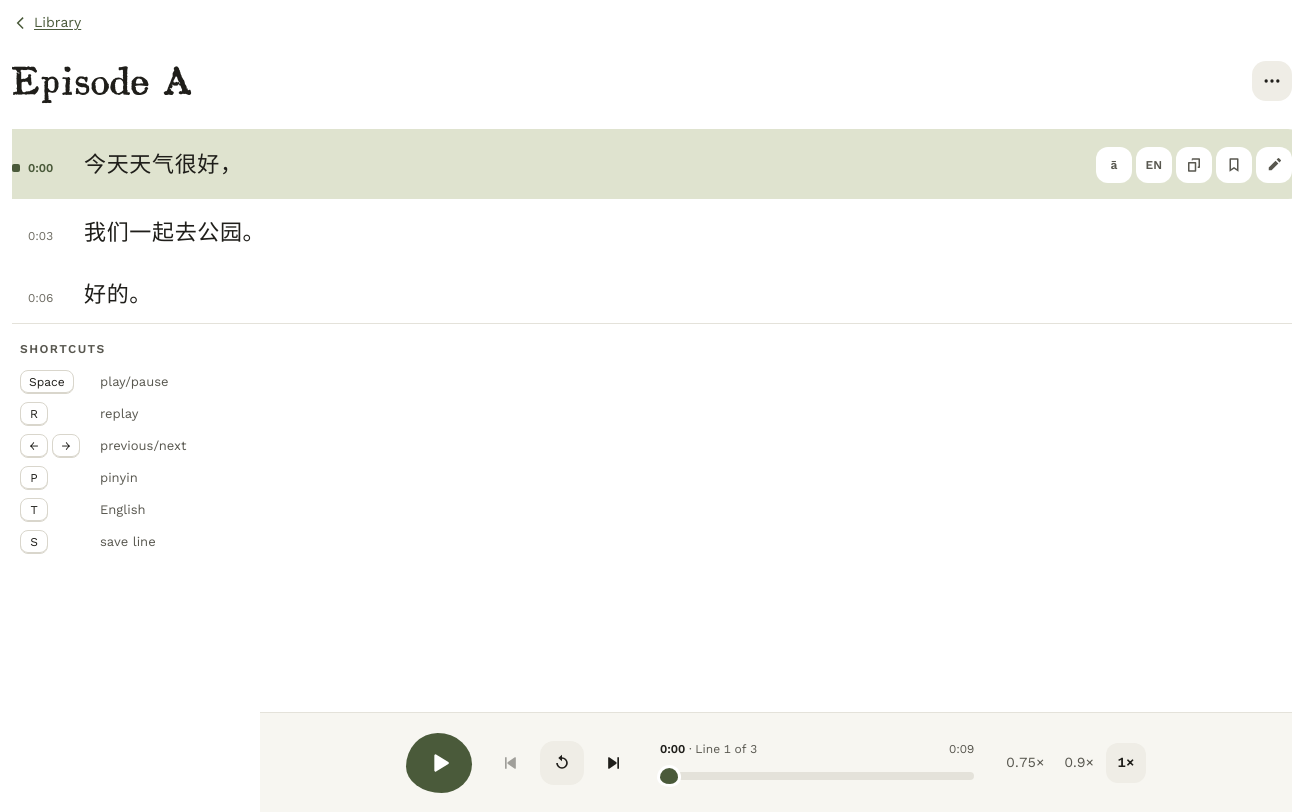
Test case: local English — capability › 'Show saved English' reveals current cached English only and never sends
Click the button named "Transcript actions" at (1272, 81), box [1252,61,1292,101]
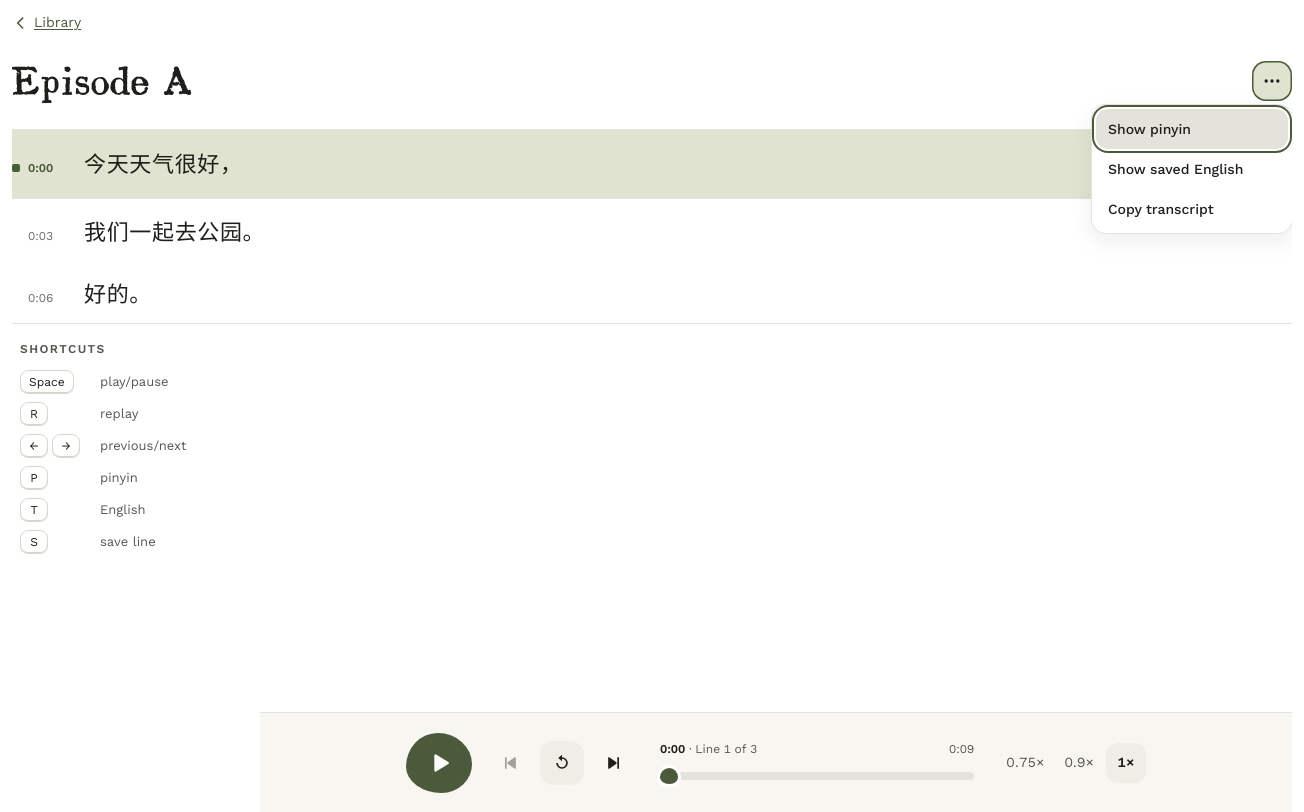
Click the menu item "Show saved English" at (1192, 169), box [1096,149,1288,189]
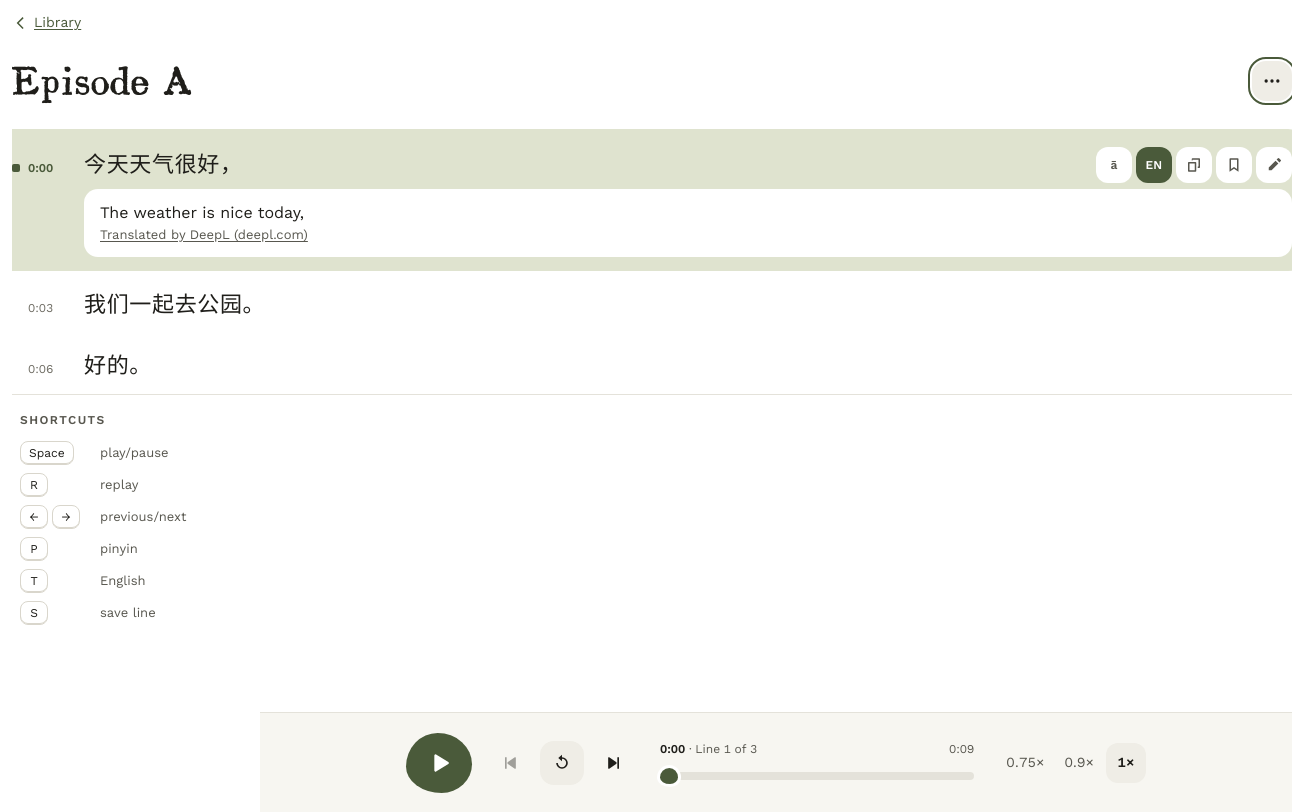
Check: the text "The weather is nice today," is shown, box [100,203,304,222]
Click the button named "Transcript actions" at (1272, 81), box [1252,61,1292,101]
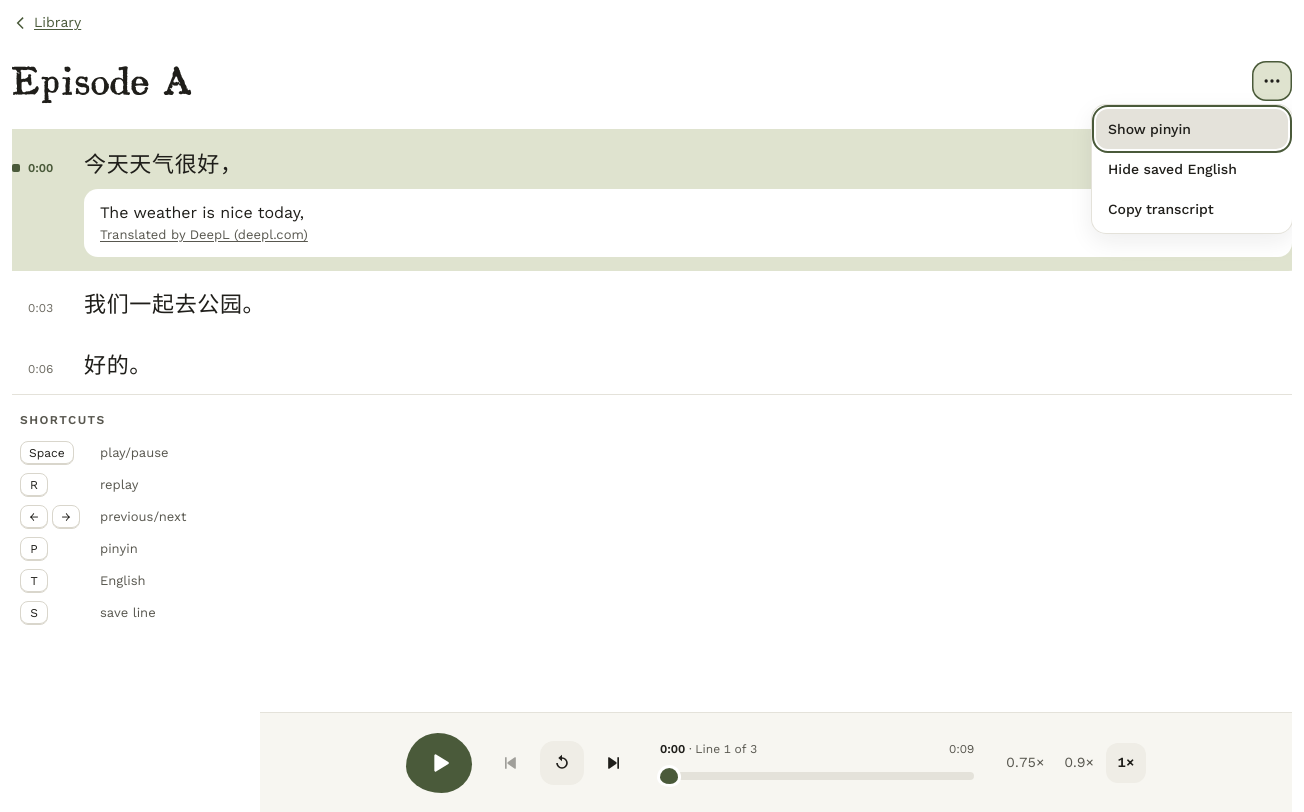
Check: the menu item "Hide saved English" is shown, box [1096,149,1288,189]
